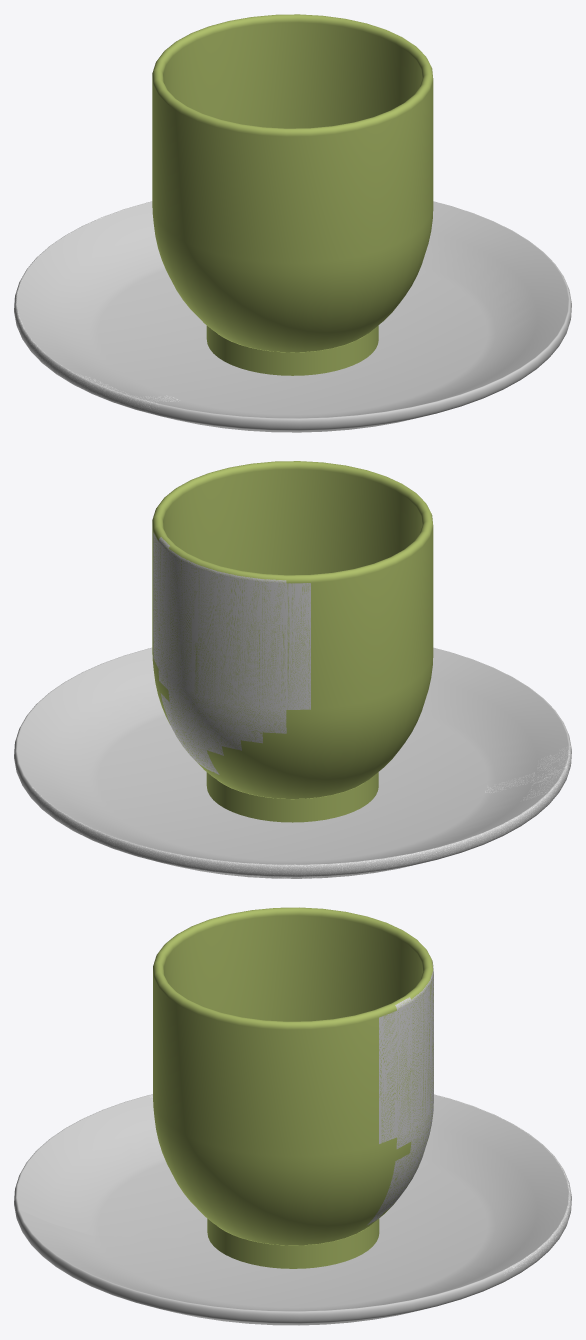
3 views of the same model, one above another, from view 1: azimuth 30°, elevation 25°; view 2: azimuth 150°, elevation 25°; view 3: azimuth 270°, elevation 25° (orthographic).
Parts seen in each view (by area): view 1: mesh2_mesh2-geometry, mesh1_mesh1-geometry; view 2: mesh2_mesh2-geometry, mesh1_mesh1-geometry; view 3: mesh2_mesh2-geometry, mesh1_mesh1-geometry.
Part boxes in pixels (left/top/right/bottom): mesh2_mesh2-geometry: left=152, top=14, right=433, bottom=375; mesh1_mesh1-geometry: left=14, top=201, right=571, bottom=432; mesh2_mesh2-geometry: left=152, top=461, right=433, bottom=822; mesh1_mesh1-geometry: left=14, top=647, right=571, bottom=878; mesh2_mesh2-geometry: left=153, top=907, right=433, bottom=1268; mesh1_mesh1-geometry: left=14, top=1094, right=571, bottom=1325.
Bounding box in the file's own units: 0.658 × 0.3661 × 0.658.
